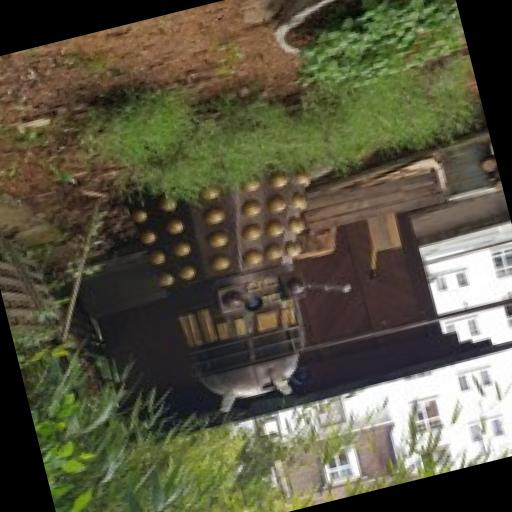dalek: (102, 124, 378, 430)
